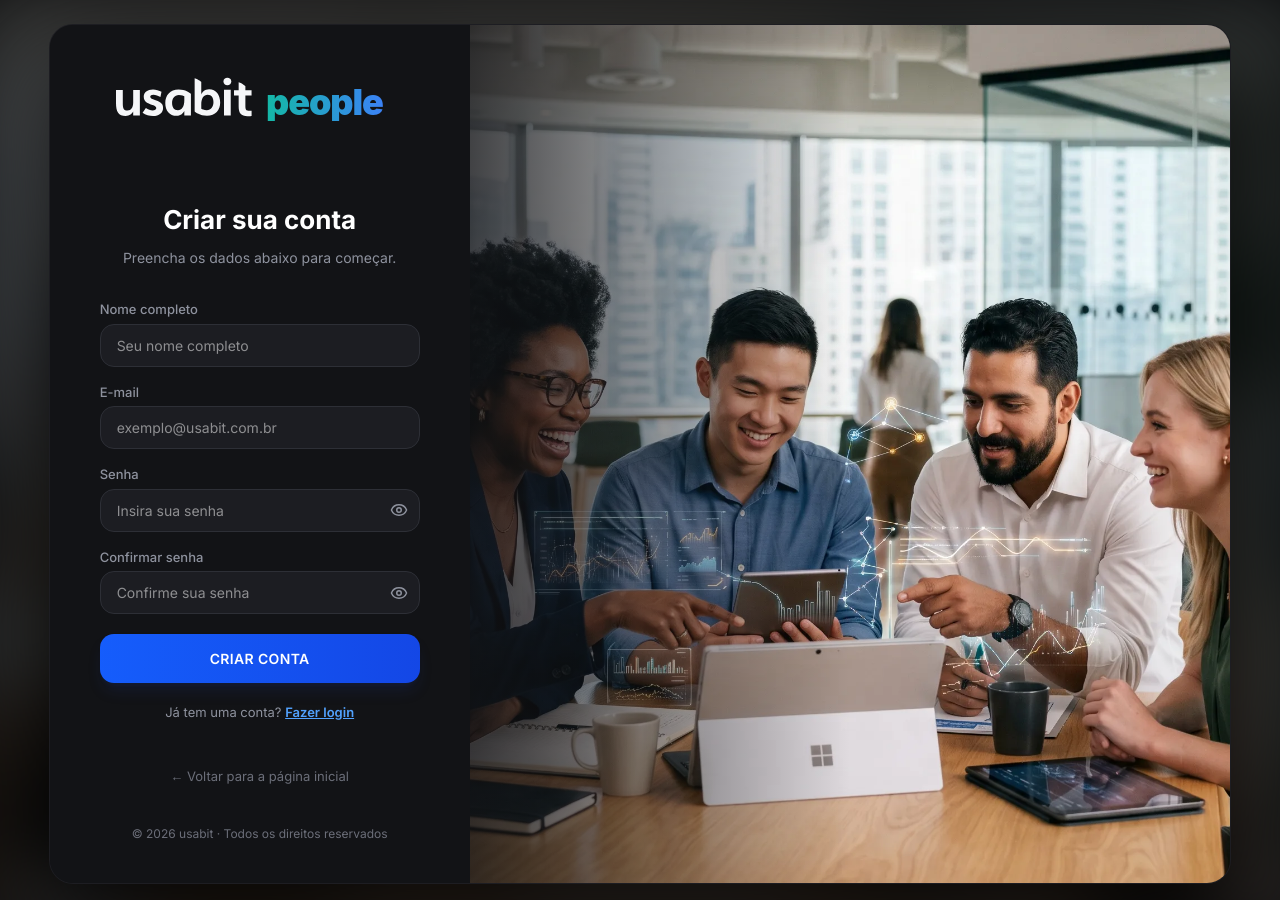
Test: Register › rejeita senhas que não coincidem
Type "Test User" into the field labelled "Nome completo". click: [260, 345]
box: [100,324,420,366]
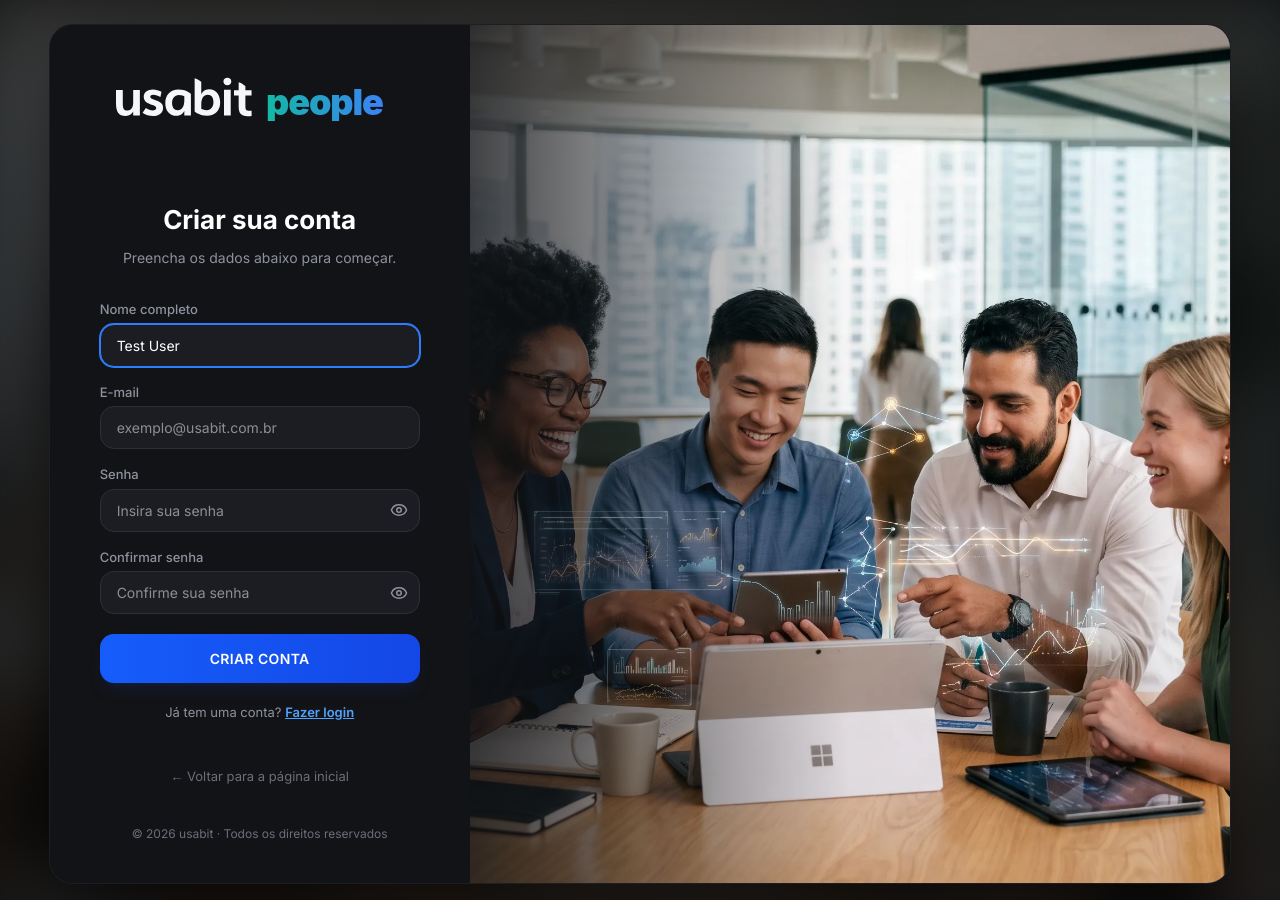
Type "test@test.com" into the field labelled "E-mail". click: [260, 428]
box: [100,406,420,449]
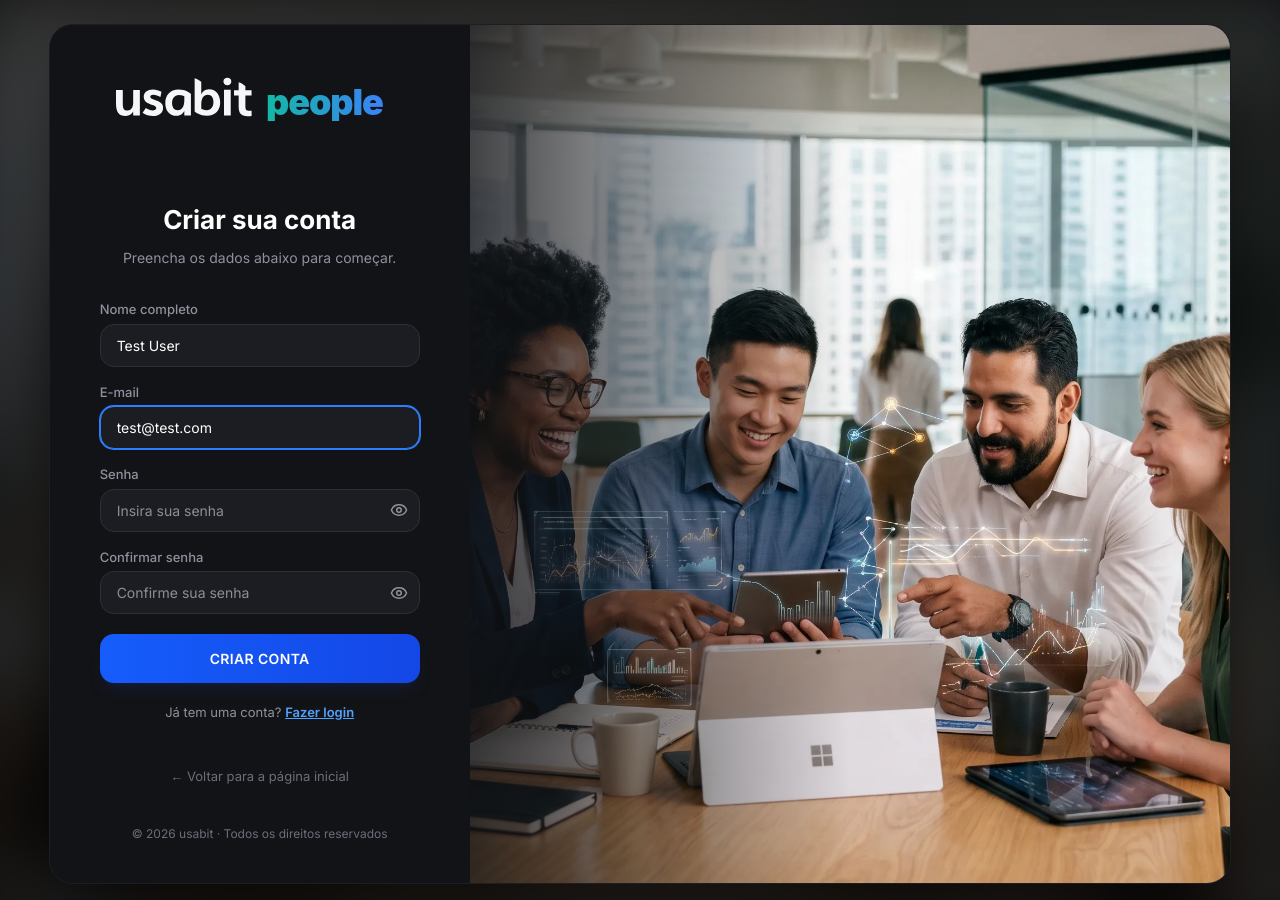
Type "123456" into the password field labelled "Senha". click: [260, 510]
box: [100,488,420,532]
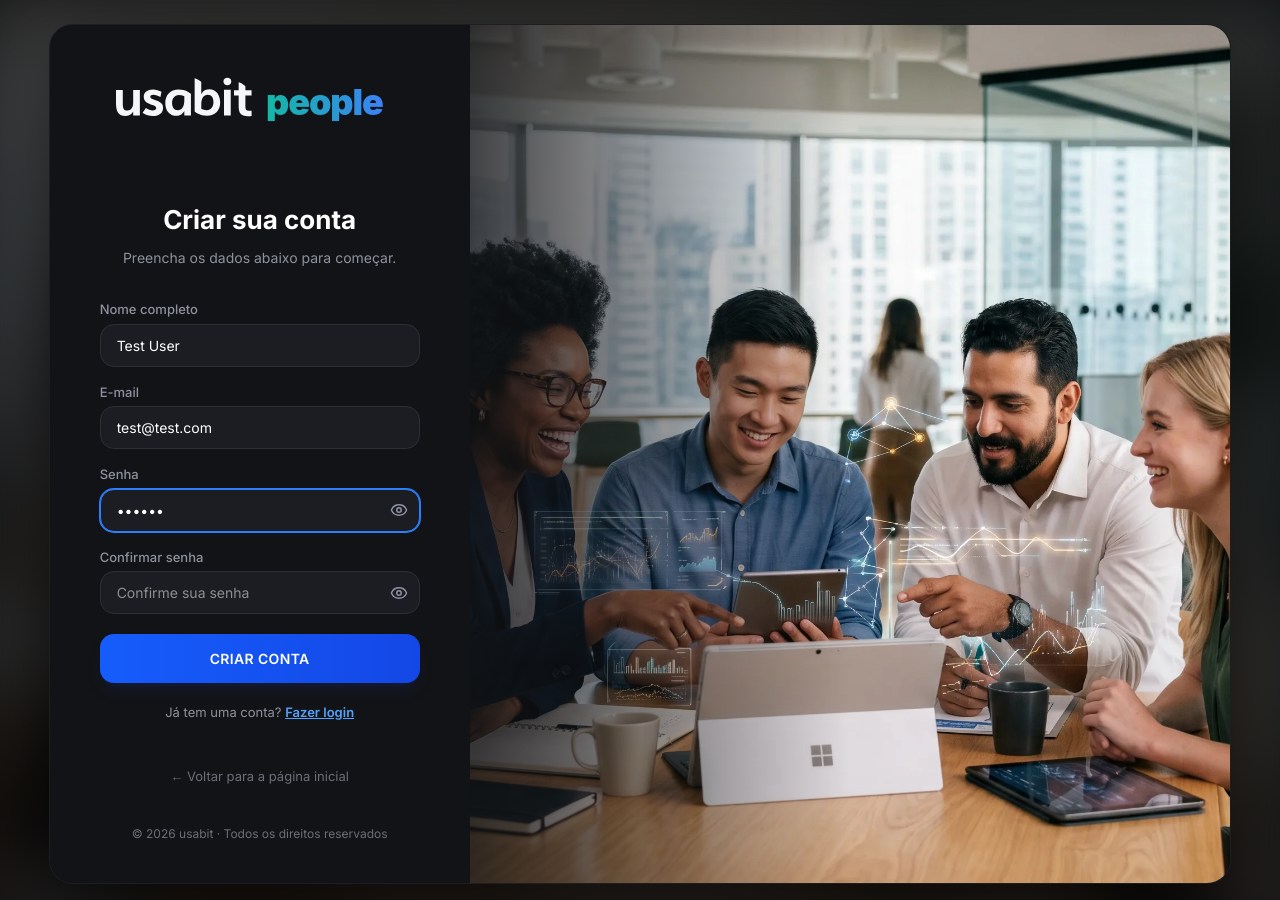
Type "654321" into the password field labelled "Confirmar senha". click: [260, 592]
box: [100,571,420,614]
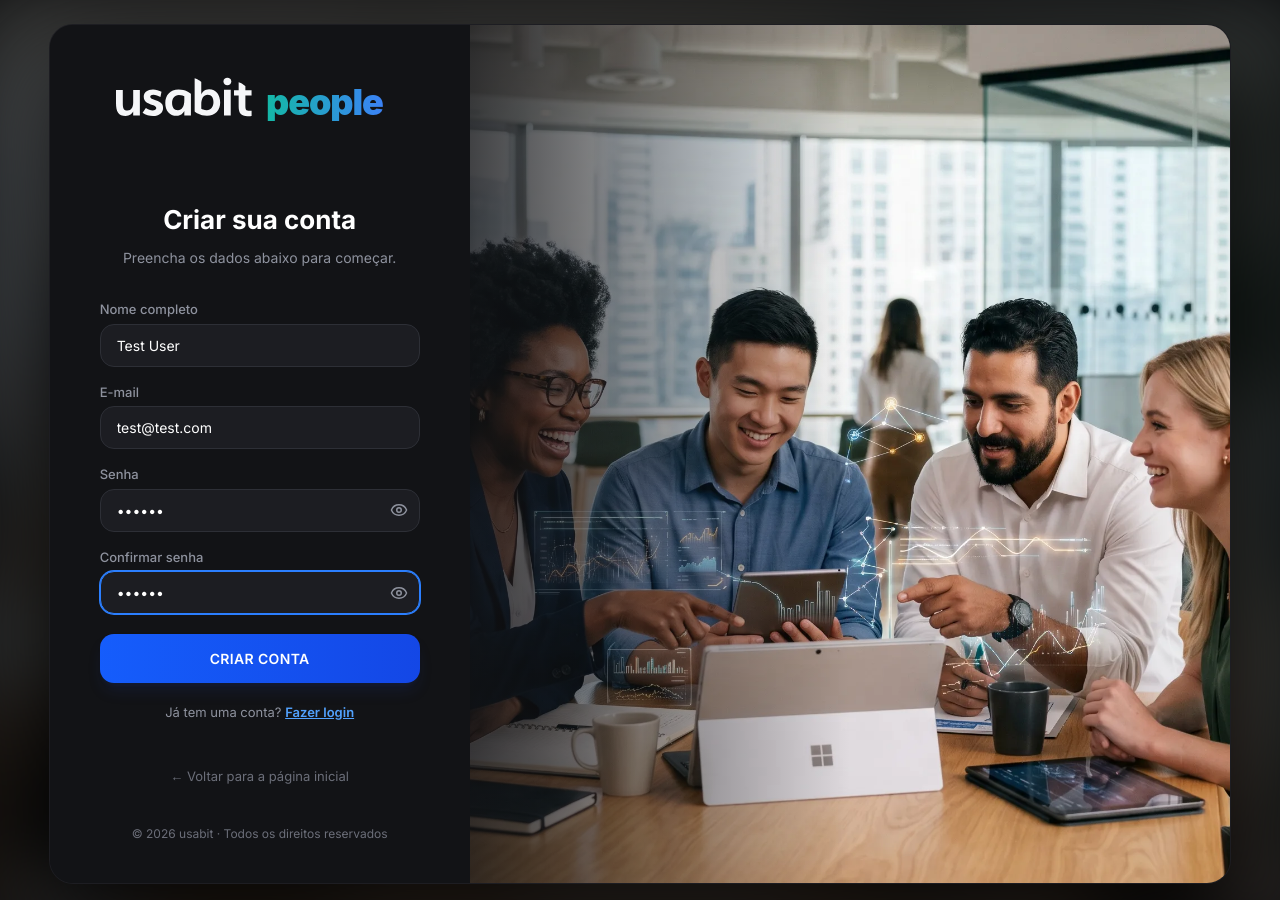
Click the button "CRIAR CONTA". click: [260, 658]
box: [100,634,420,683]
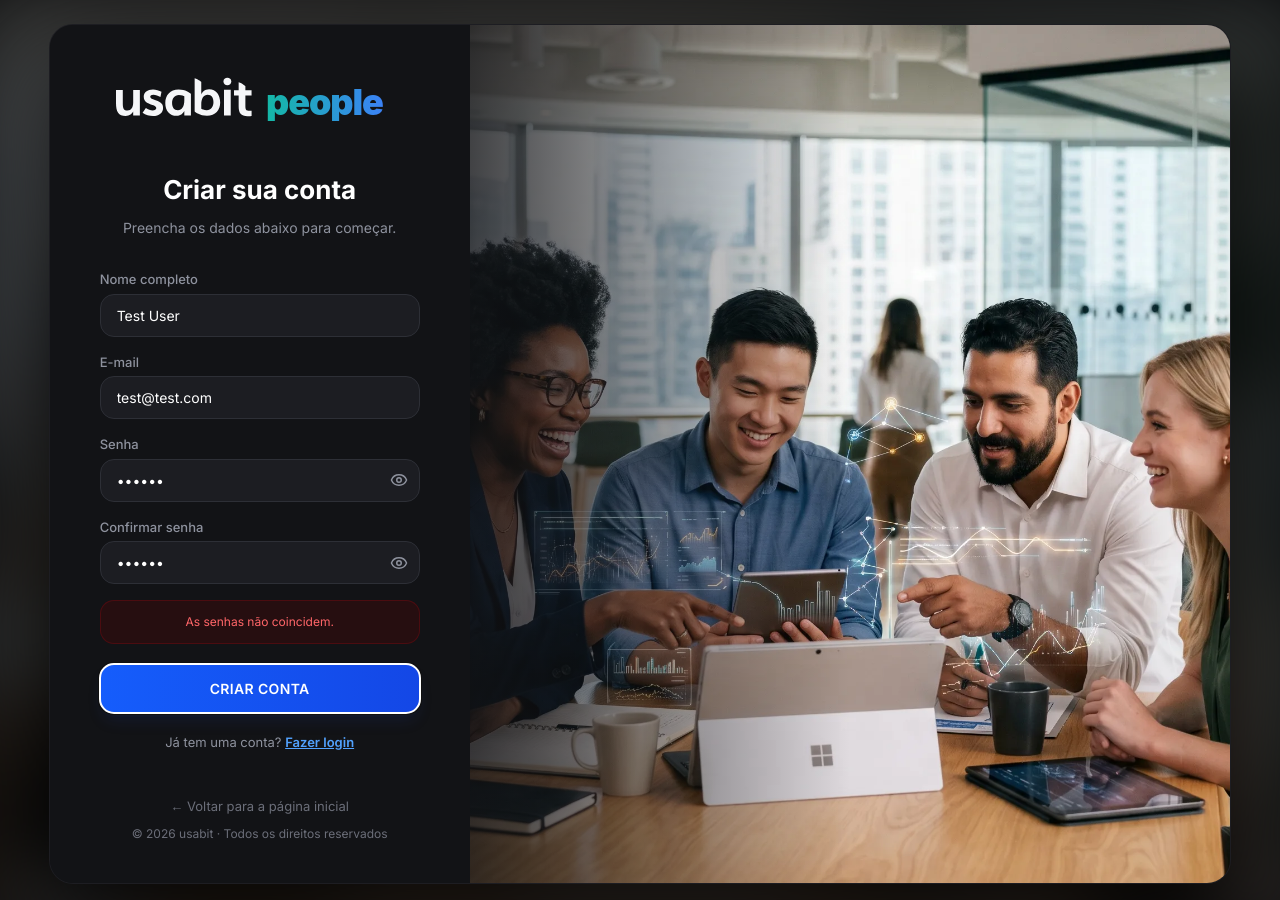
Result: the text "As senhas não coincidem." is shown at [100,600,420,644]
